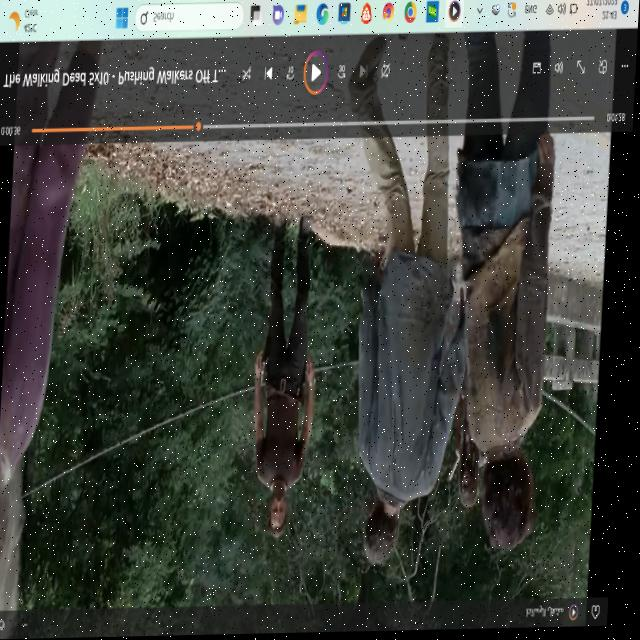Zombie: (491, 461, 535, 550), (368, 501, 407, 558)
human: (272, 481, 293, 539), (464, 454, 486, 506)
